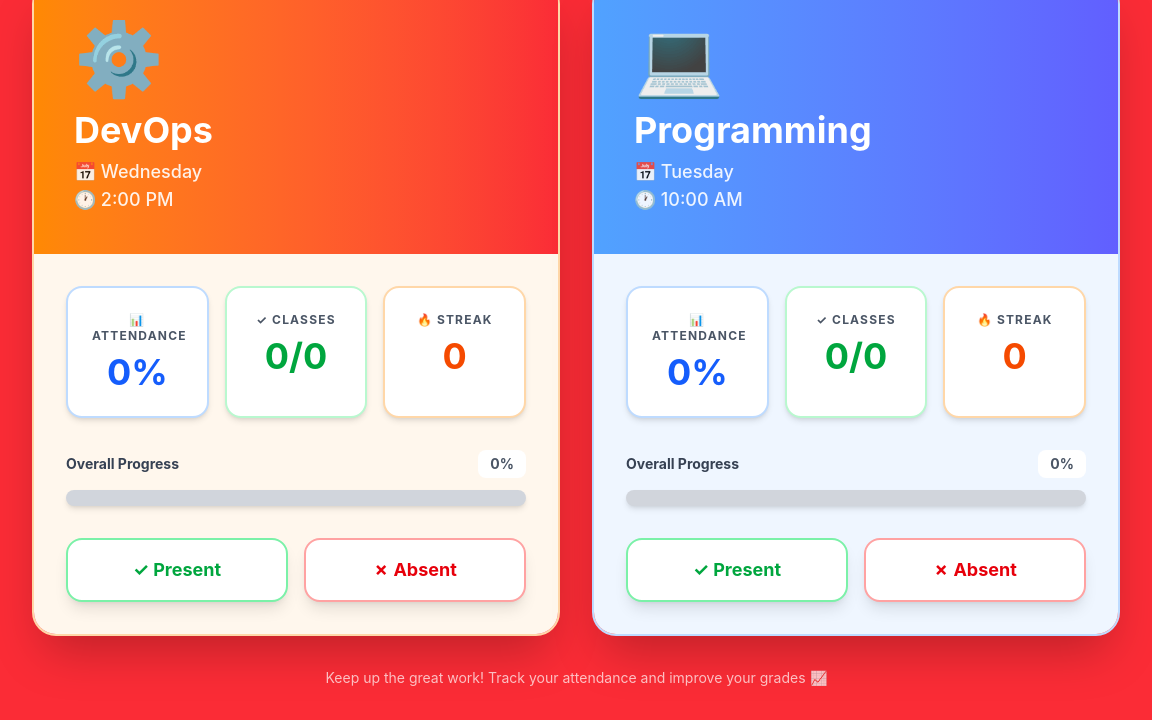
Test case: AttendancePage › should handle marking attendance as present
The width and height of the screenshot is (1152, 720).
(page scrolled)
Step 1. Click the 1st button "✓ Present" → {"x": 177, "y": 570}, box [66, 538, 288, 602]
(page scrolled)
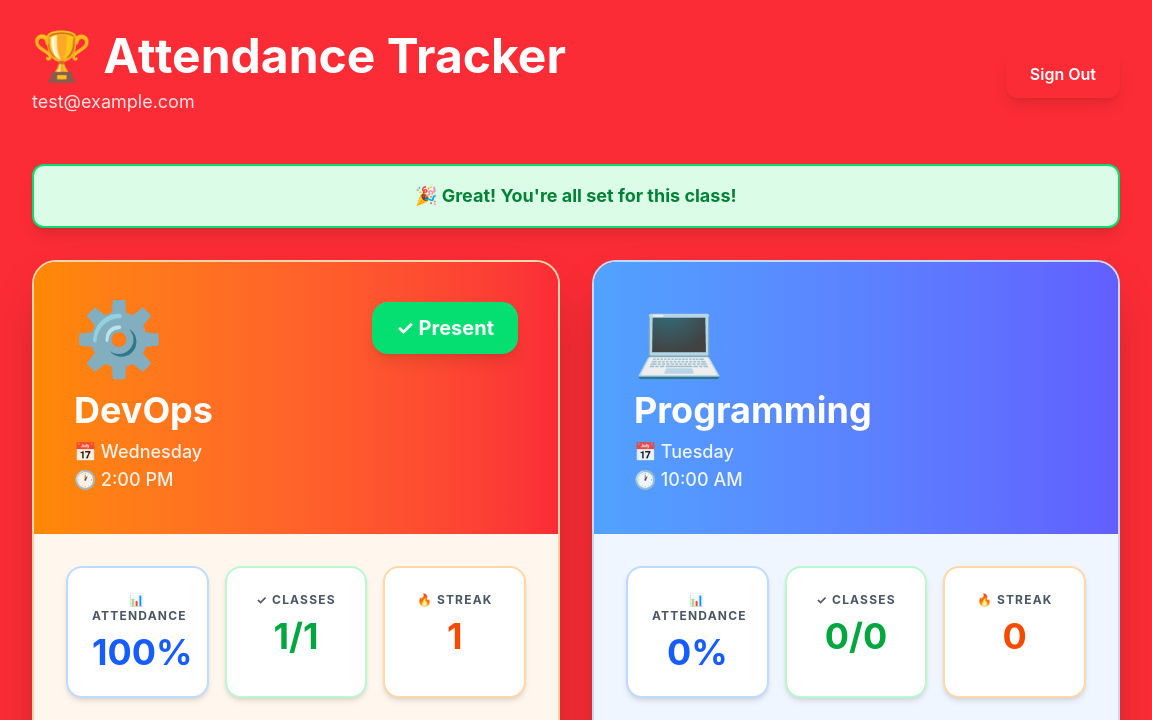
Expected: the text "🎉 Great! You're all set for this class!" is shown, [32, 164, 1120, 228]
